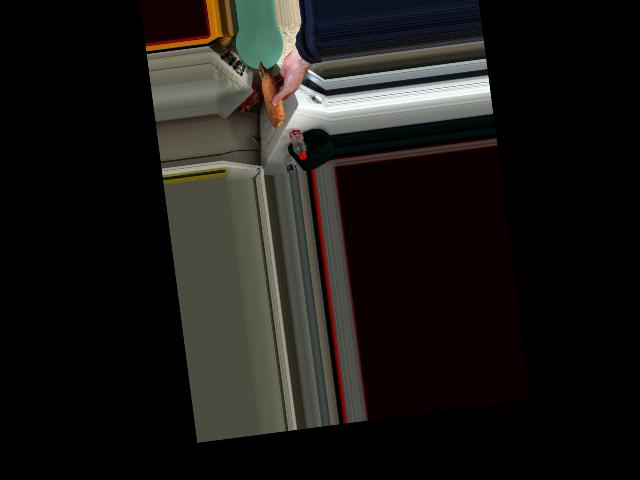sweet_potato: (257, 57, 285, 125)
